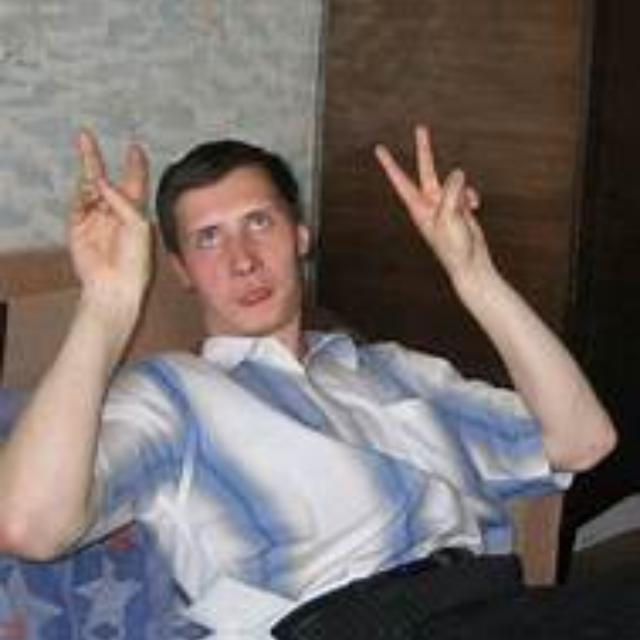person: (45, 149, 559, 631), (45, 631, 559, 640)
